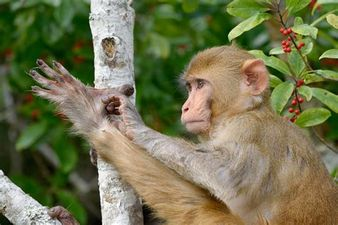monkey: (37, 32, 338, 214)
